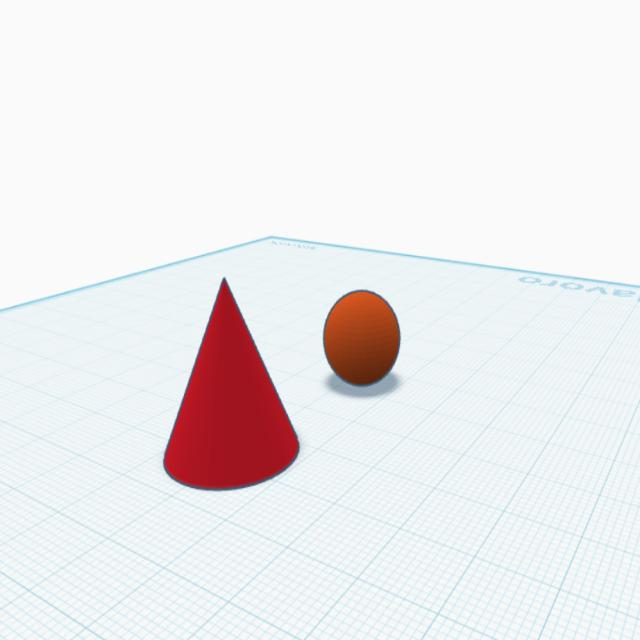cone: (160, 272, 303, 500)
sphere: (318, 282, 404, 392)
